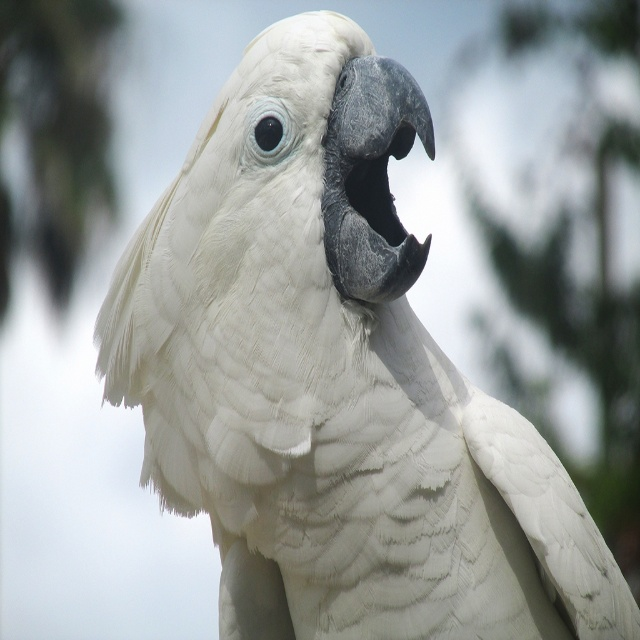Parrot: (93, 10, 640, 640)
